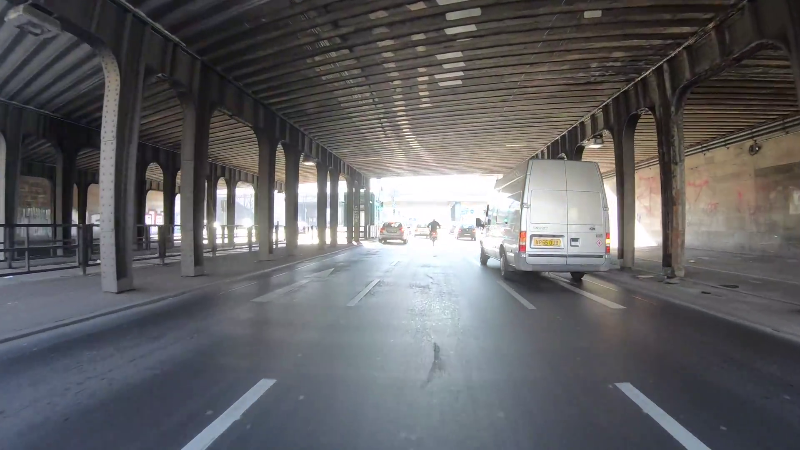Plate: (534, 237, 561, 247)
